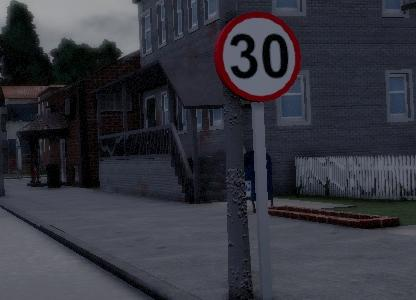Speed_30: (211, 6, 300, 105)
